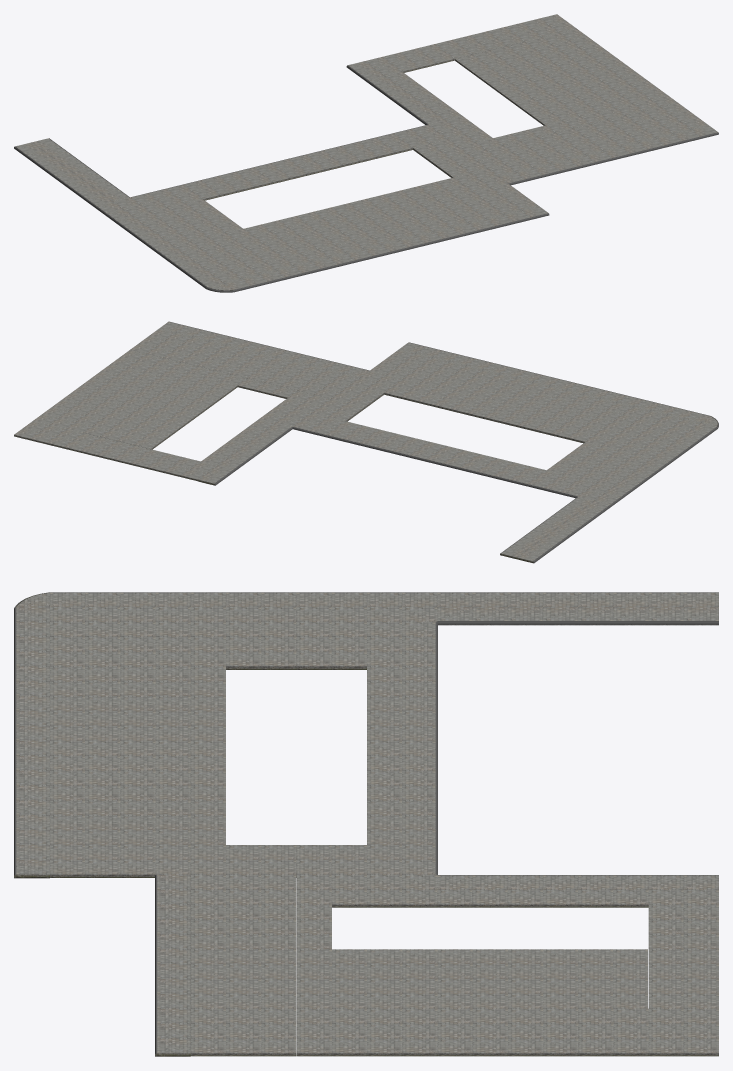
Rendered from Area1Pavement1.fbx.
3 renders of one model, top to bottom at view 1: azimuth 30°, elevation 25°; view 2: azimuth 150°, elevation 25°; view 3: azimuth 270°, elevation 25°, orthographic. The views are drawn at different scales.
Parts seen in each view (by area): view 1: Area1Pavement1; view 2: Area1Pavement1; view 3: Area1Pavement1.
Part boxes in pixels (box(x1,y1,x2,y2)): Area1Pavement1: box(14, 14, 718, 292); Area1Pavement1: box(14, 321, 718, 563); Area1Pavement1: box(14, 592, 718, 1056).
Bounding box in the file's own units: 3970 × 13.59 × 2562.
